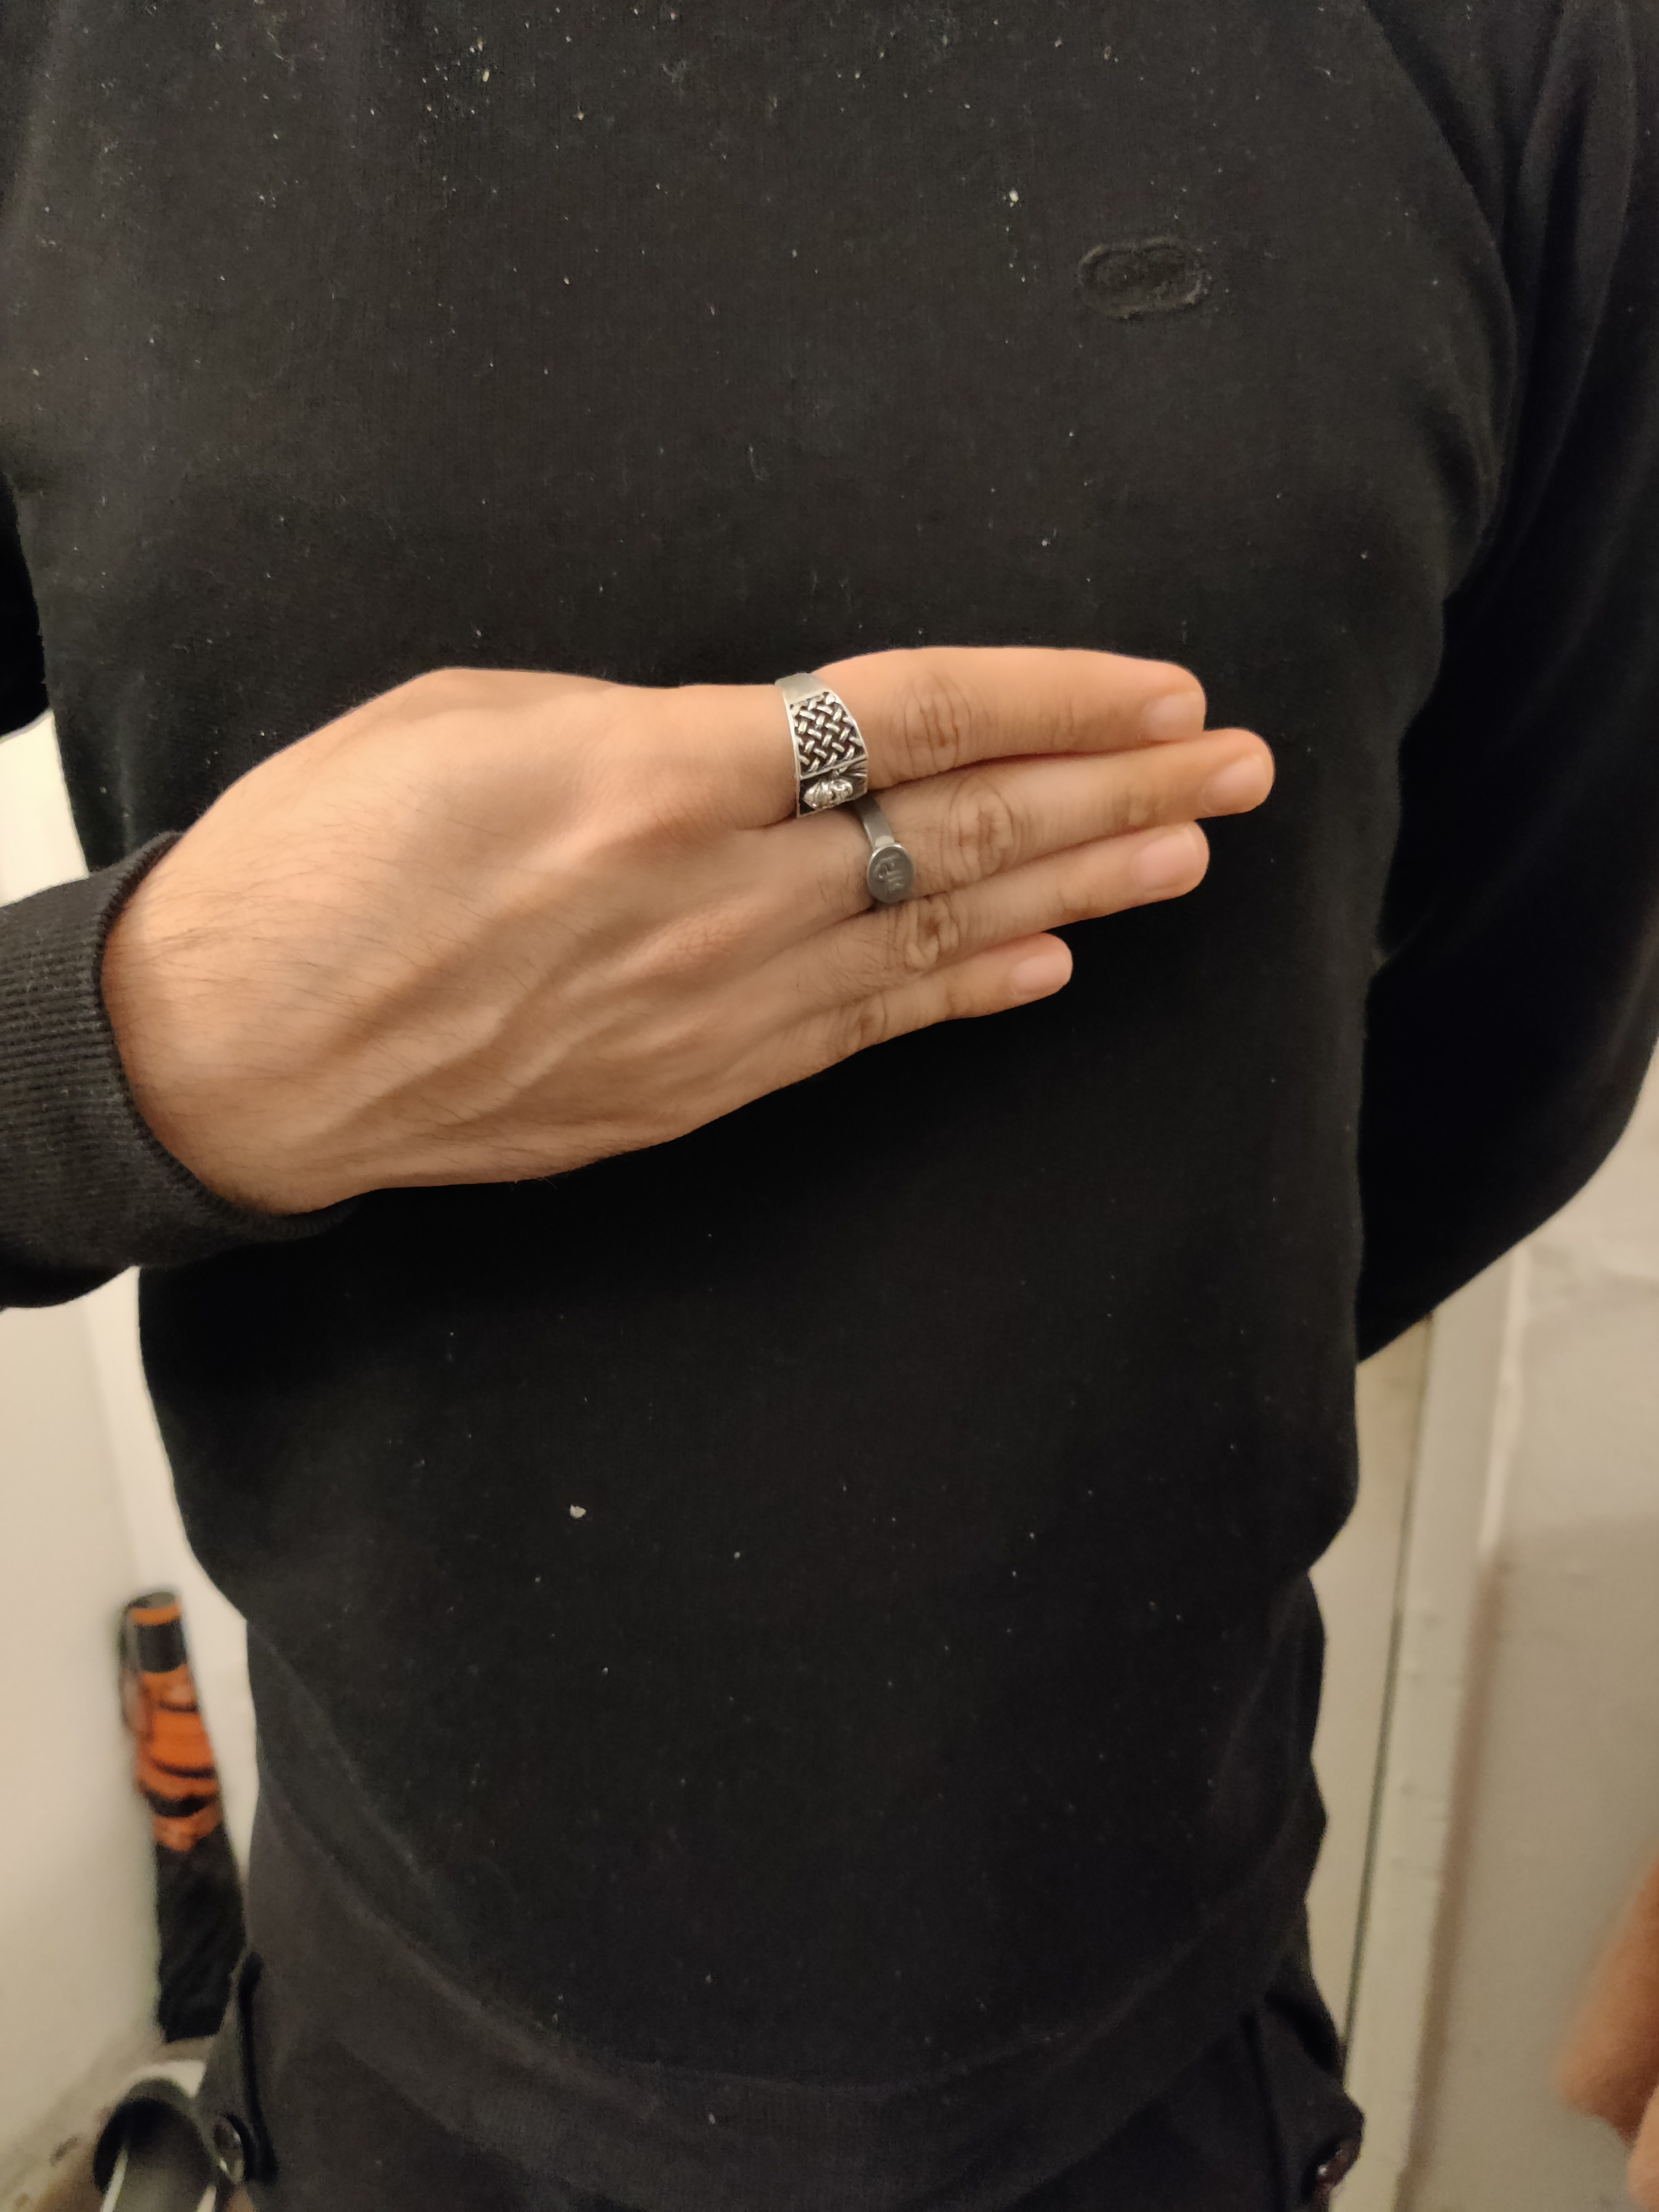left: (12, 315, 1469, 1397)
